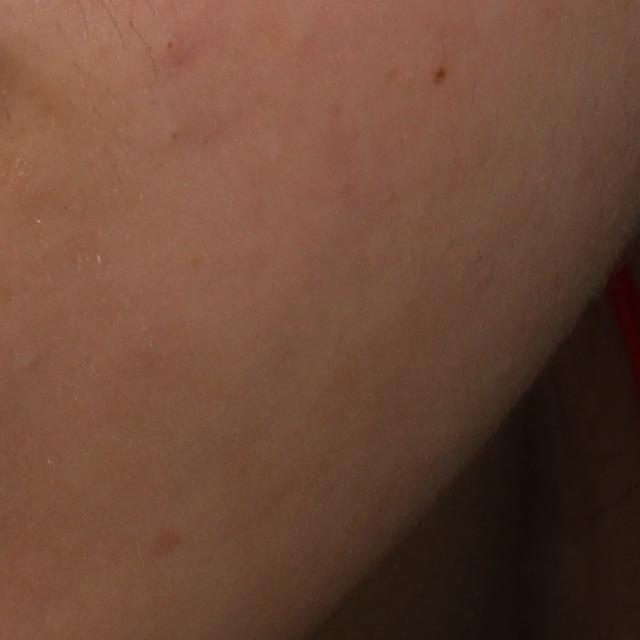nevus: (427, 61, 451, 90)
